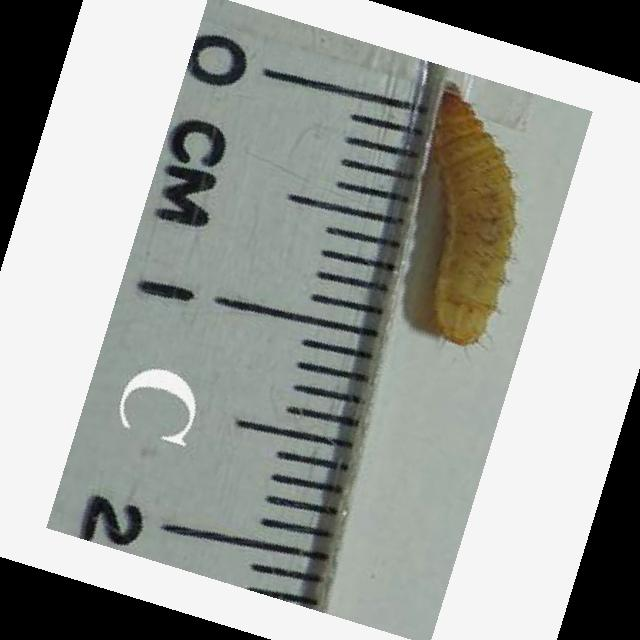Maggot: (425, 85, 518, 345)
